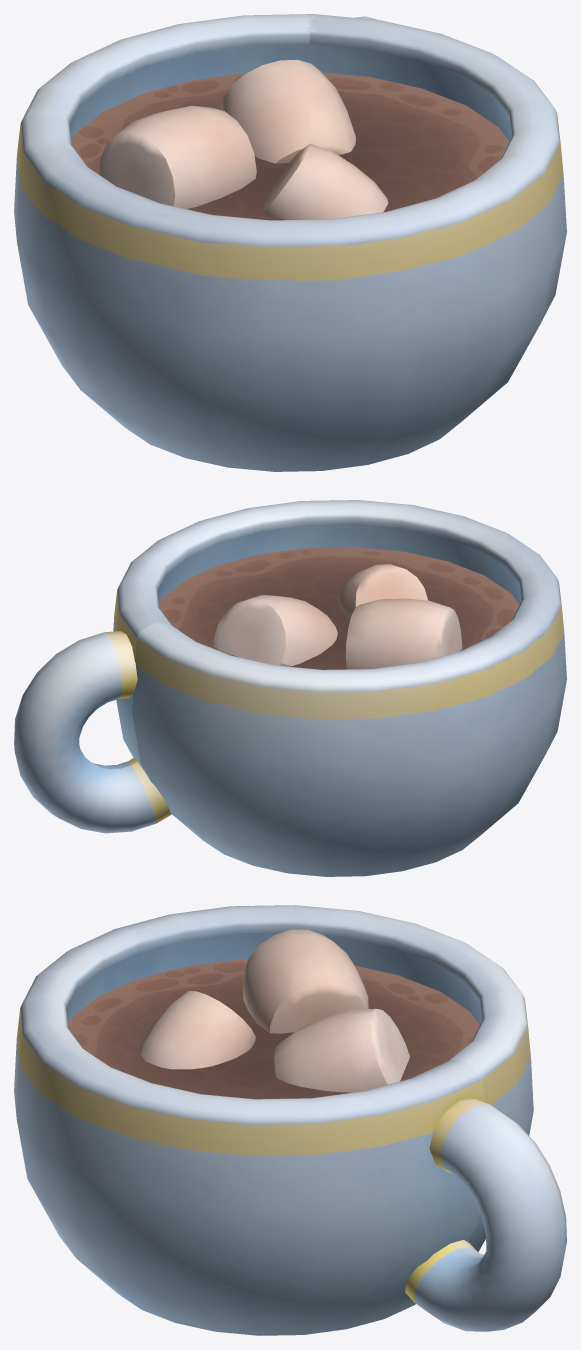
File: Coffee_Cup.fbx
3 renders of one model, top to bottom at view 1: azimuth 30°, elevation 25°; view 2: azimuth 150°, elevation 25°; view 3: azimuth 270°, elevation 25°, orthographic. The views are drawn at different scales.
Parts seen in each view (by area): view 1: Cup_Coffee; view 2: Cup_Coffee; view 3: Cup_Coffee.
Part boxes in pixels (x1,y1,x2,y2): Cup_Coffee: (14,14,566,471); Cup_Coffee: (14,500,566,876); Cup_Coffee: (14,905,566,1335).
Size of the model in its own units: 0.5654 by 0.347 by 0.5781.
1 material, 1 textured.
